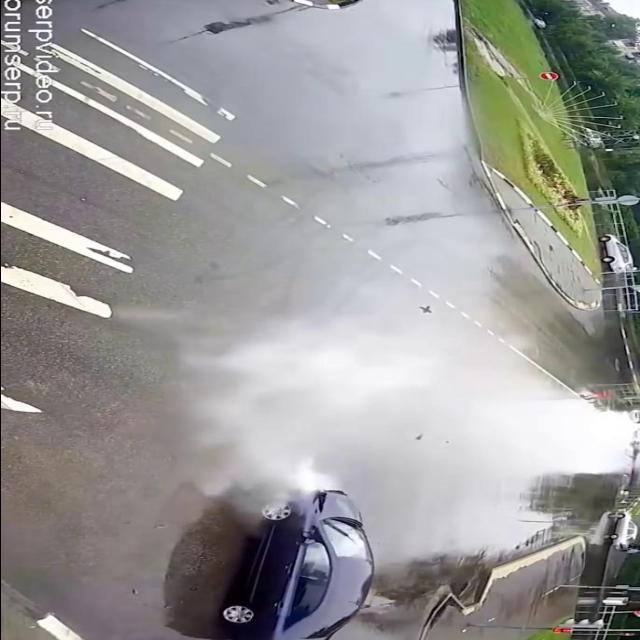accident: (198, 453, 395, 640)
